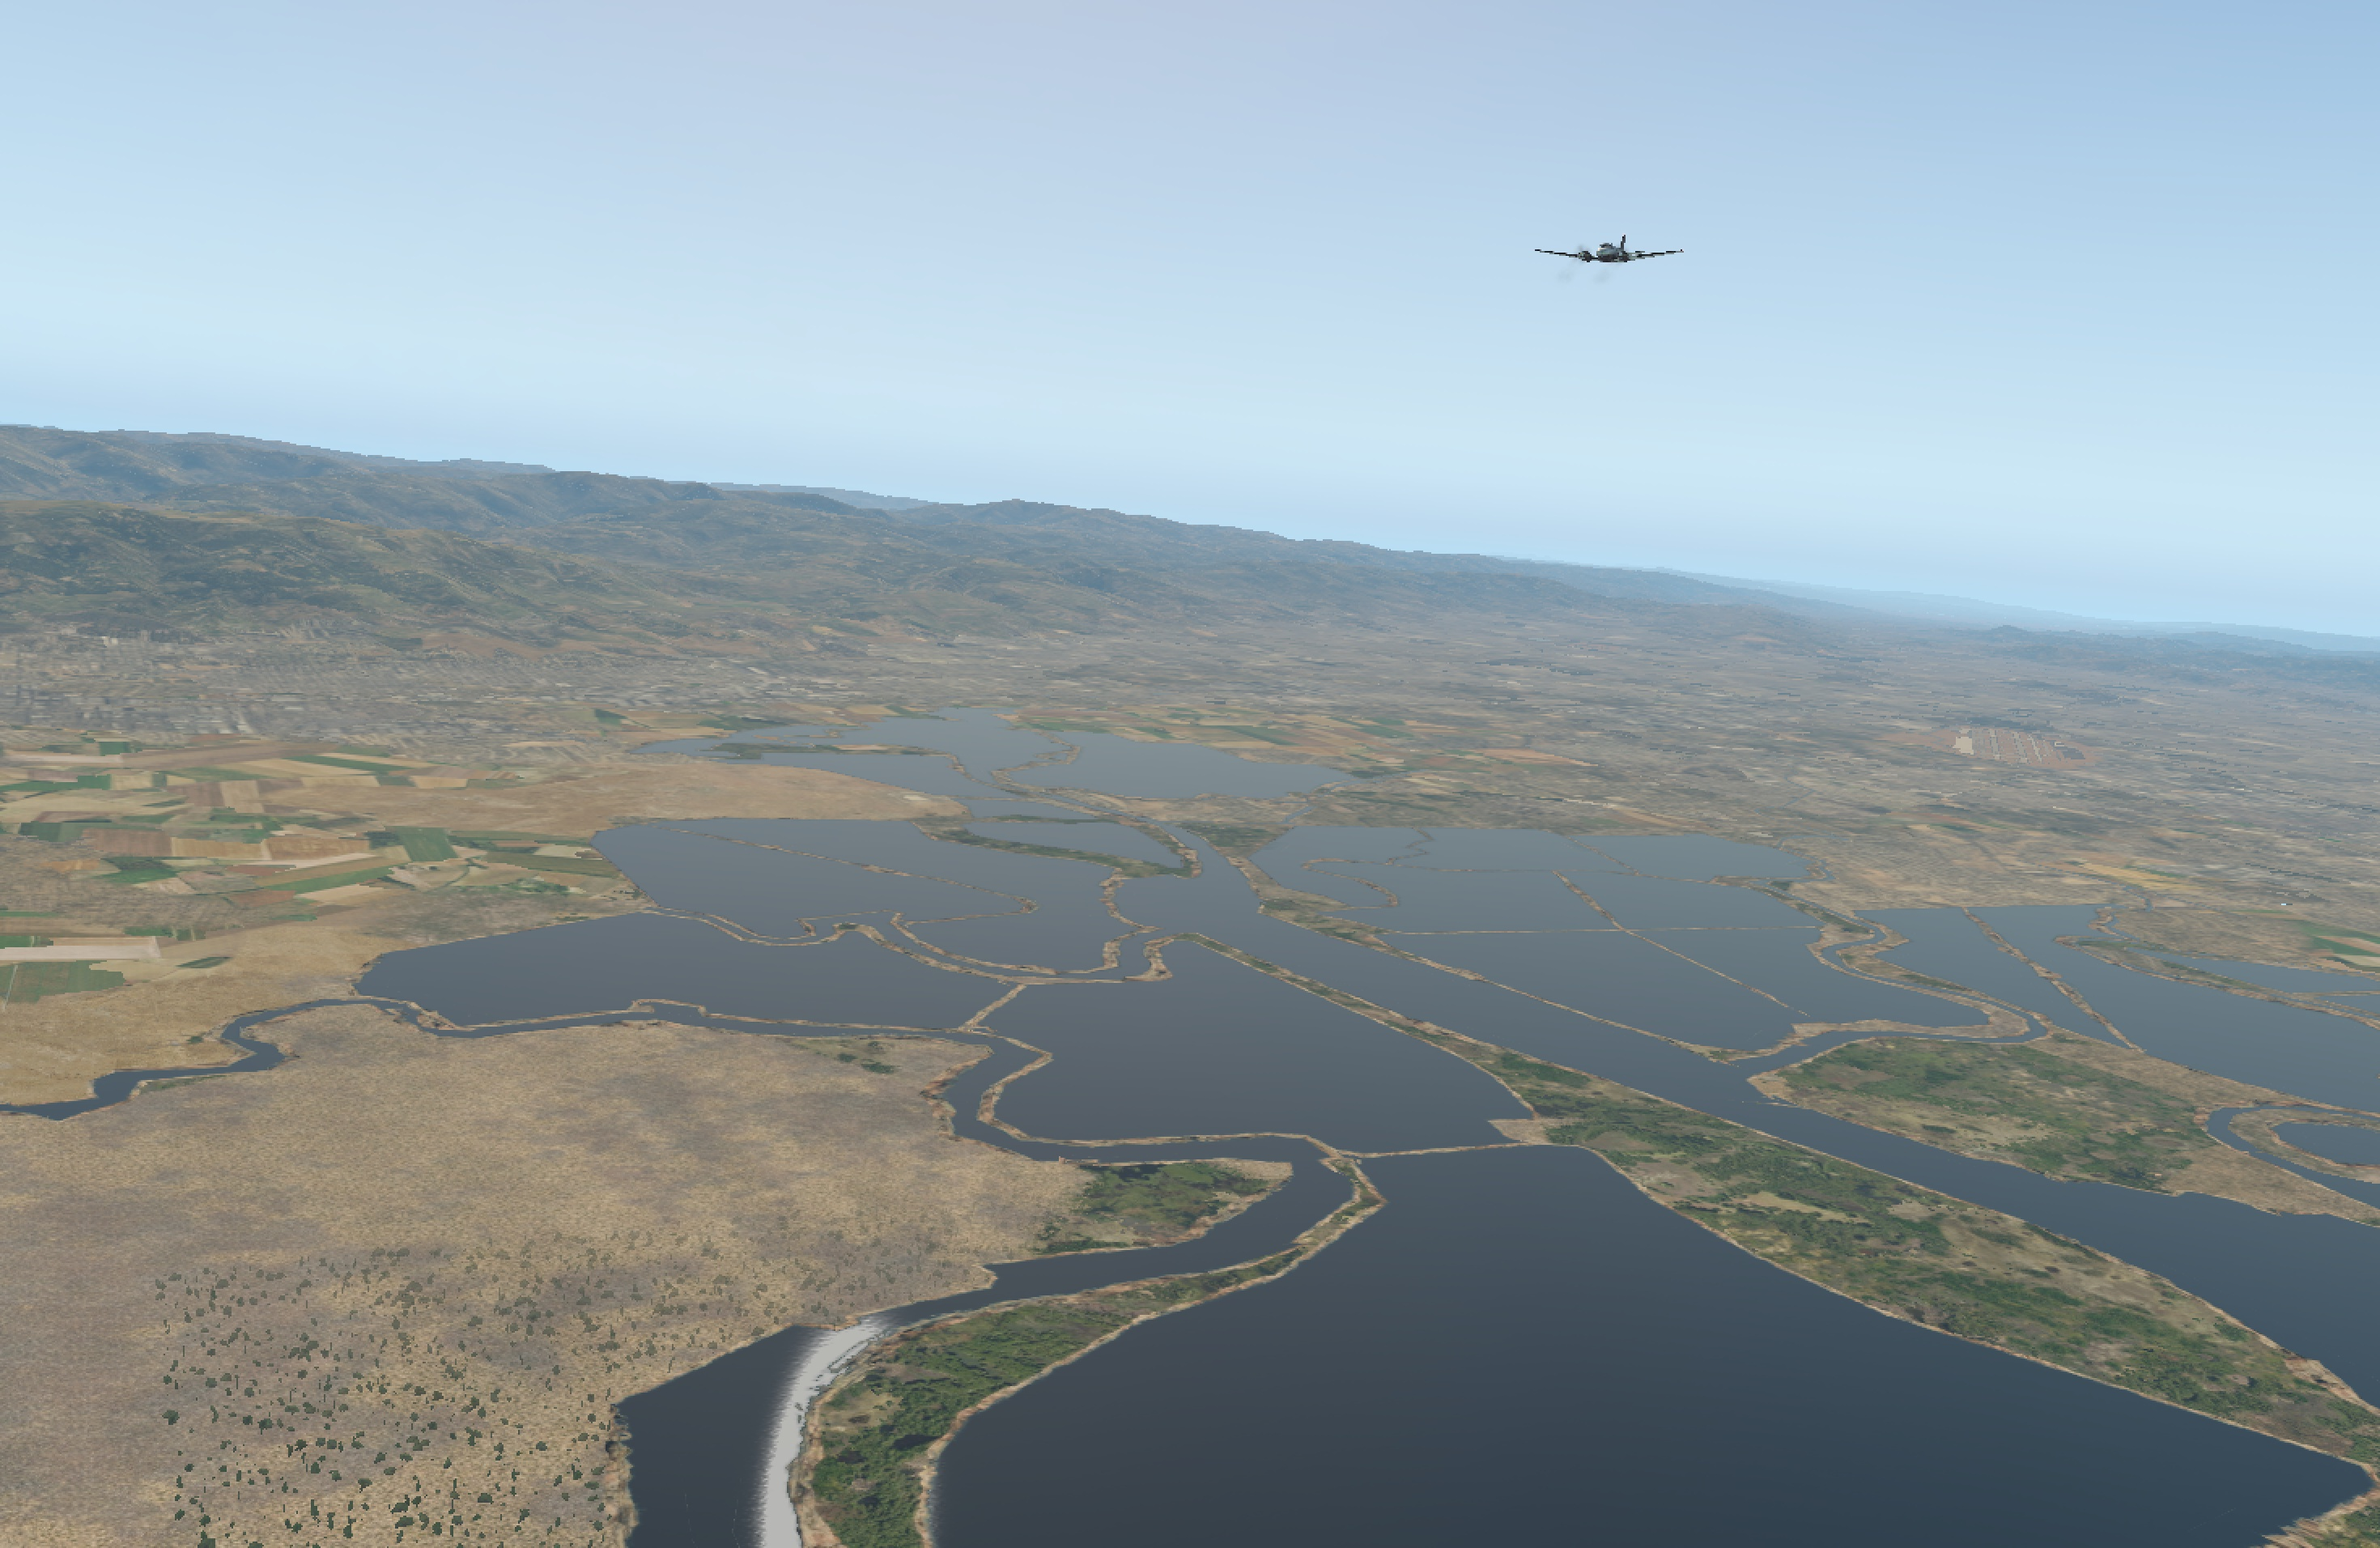aircraft: (1535, 233, 1679, 286)
